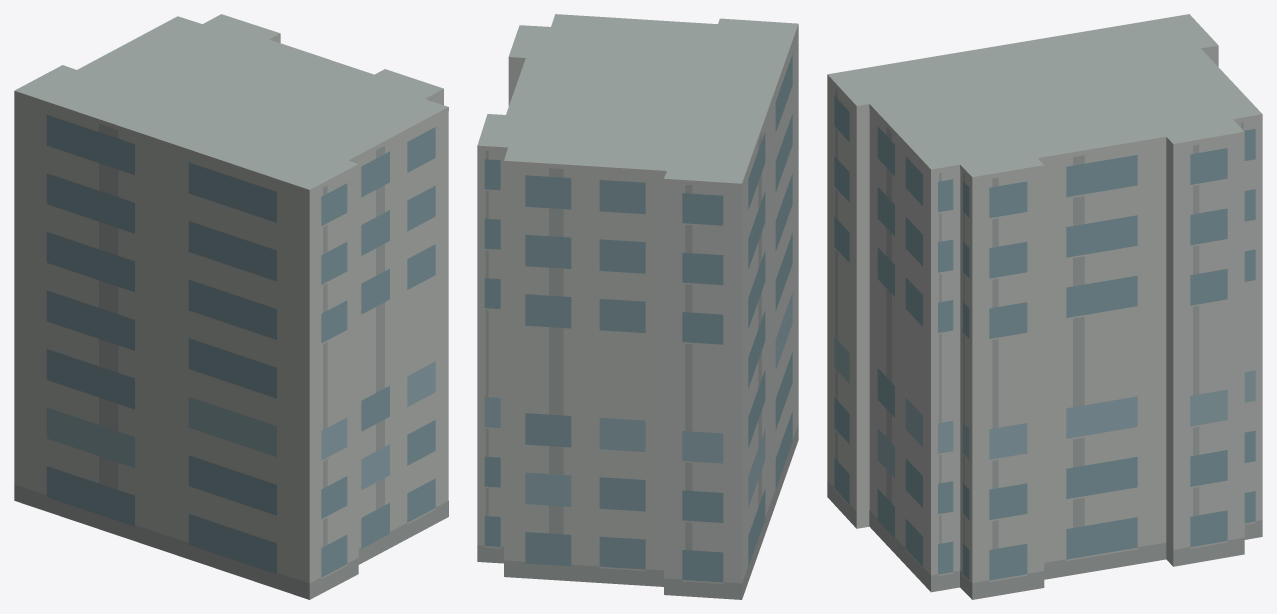
File: survey-upis-32809139.glb
3 renders of one model, left to right at view 1: azimuth 30°, elevation 25°; view 2: azimuth 150°, elevation 25°; view 3: azimuth 270°, elevation 25°, orthographic. The views are drawn at different scales.
Parts seen in each view (by area): view 1: survey-upis-32809139.tmp; view 2: survey-upis-32809139.tmp; view 3: survey-upis-32809139.tmp.
Boxes of the visible parts, x1=… form: survey-upis-32809139.tmp: x1=14, y1=14, x2=448, y2=599; survey-upis-32809139.tmp: x1=477, y1=14, x2=798, y2=599; survey-upis-32809139.tmp: x1=827, y1=14, x2=1262, y2=599.
Size of the model in its own units: 18.14 by 21.9 by 20.44.
